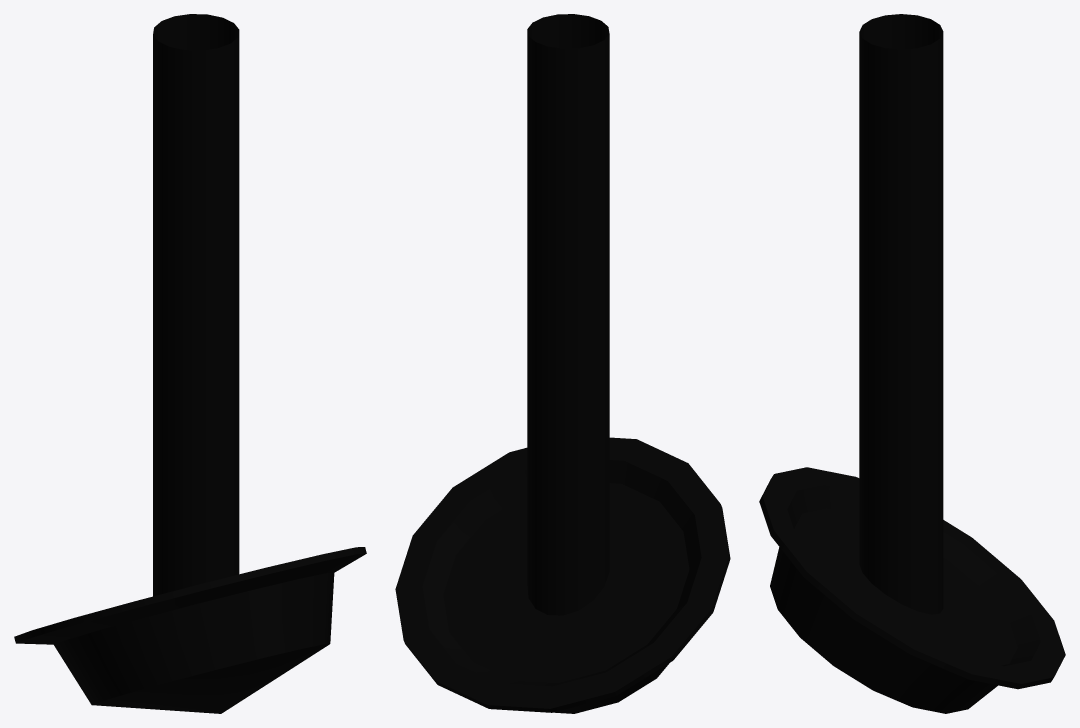
Rendered from Libra_Leg_1_Lower.obj.
The picture shows the model from 3 angles, left to right: view 1: azimuth 30°, elevation 25°; view 2: azimuth 150°, elevation 25°; view 3: azimuth 270°, elevation 25°; orthographic projection. The views are drawn at different scales.
Parts seen in each view (by area): view 1: Libra_Leg_1_Lower; view 2: Libra_Leg_1_Lower; view 3: Libra_Leg_1_Lower.
Boxes of the visible parts, bbox=[...] form: Libra_Leg_1_Lower: bbox=[14, 14, 366, 713]; Libra_Leg_1_Lower: bbox=[395, 14, 730, 713]; Libra_Leg_1_Lower: bbox=[759, 14, 1065, 713].
Size of the model in its own units: 0.3125 by 0.6523 by 0.2736.
Materials: 1 (1 with a texture image).
